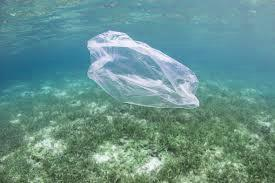Trash: (83, 18, 204, 117)
